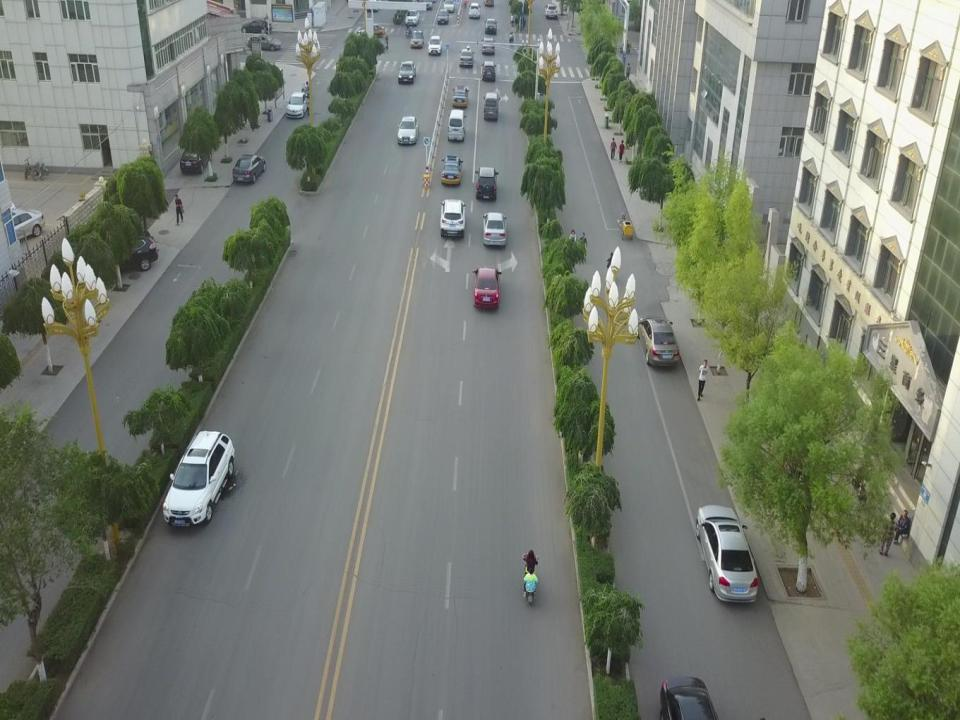car: (163, 430, 234, 528), (698, 505, 758, 604), (92, 231, 159, 270), (637, 315, 679, 369), (472, 265, 502, 308), (2, 208, 45, 237), (179, 138, 212, 174), (439, 200, 466, 237), (233, 154, 266, 184), (483, 212, 507, 246), (475, 166, 498, 199), (441, 154, 464, 185), (397, 116, 419, 145), (246, 34, 282, 51), (287, 91, 307, 118), (397, 60, 416, 84), (242, 19, 274, 33), (451, 85, 469, 107), (356, 24, 384, 38), (481, 60, 496, 81), (480, 36, 496, 54), (459, 49, 474, 67), (428, 36, 442, 54), (405, 10, 419, 26), (411, 30, 423, 48), (485, 19, 498, 35), (544, 3, 557, 19), (468, 3, 480, 20), (437, 10, 449, 24), (444, 0, 455, 12), (423, 0, 432, 9)
van: (448, 109, 466, 141), (483, 92, 500, 120)
